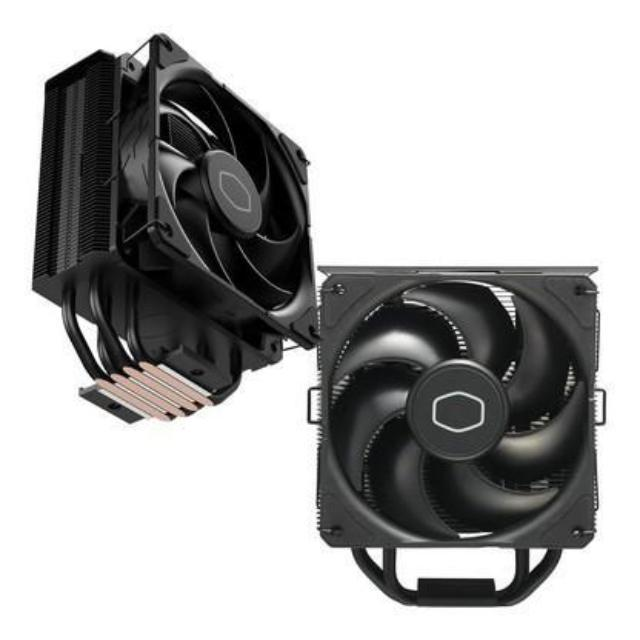CPU_Fan: (31, 29, 318, 418), (318, 268, 606, 608)
